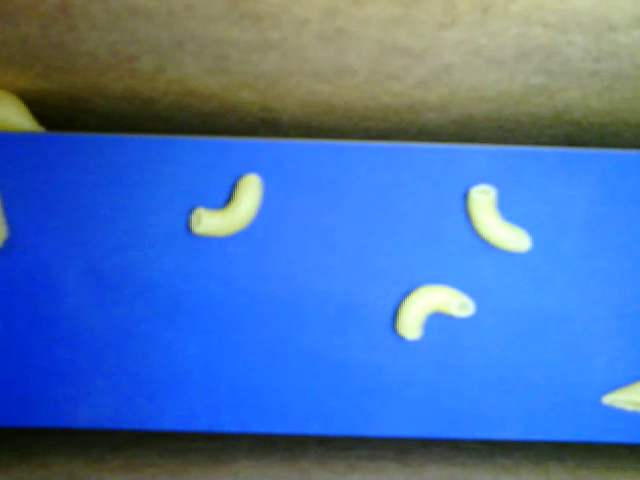elbow: (188, 171, 264, 238), (468, 177, 533, 254), (395, 283, 478, 342)
penne: (602, 379, 639, 409)
shell: (1, 88, 49, 131)
